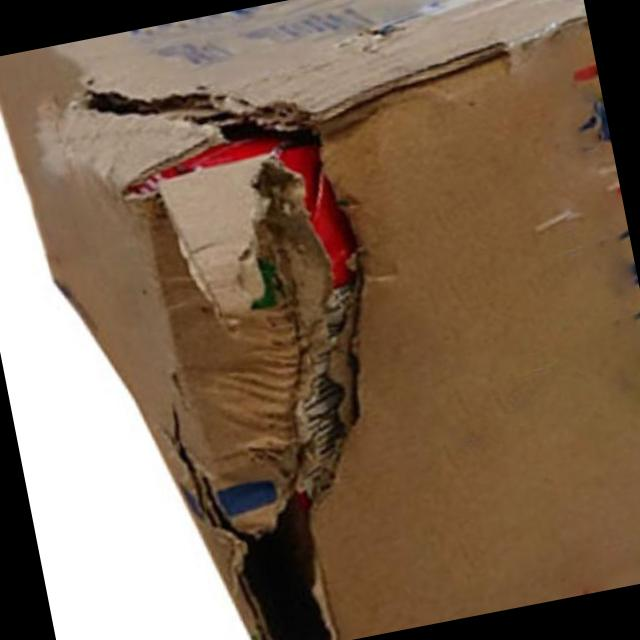box: (4, 0, 640, 640)
opened: (90, 87, 391, 640)
